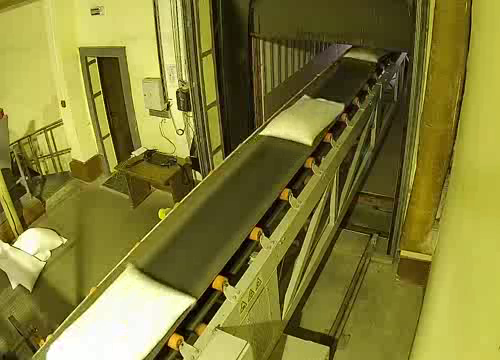bag: (37, 259, 203, 360), (255, 93, 349, 147), (341, 45, 389, 66)
